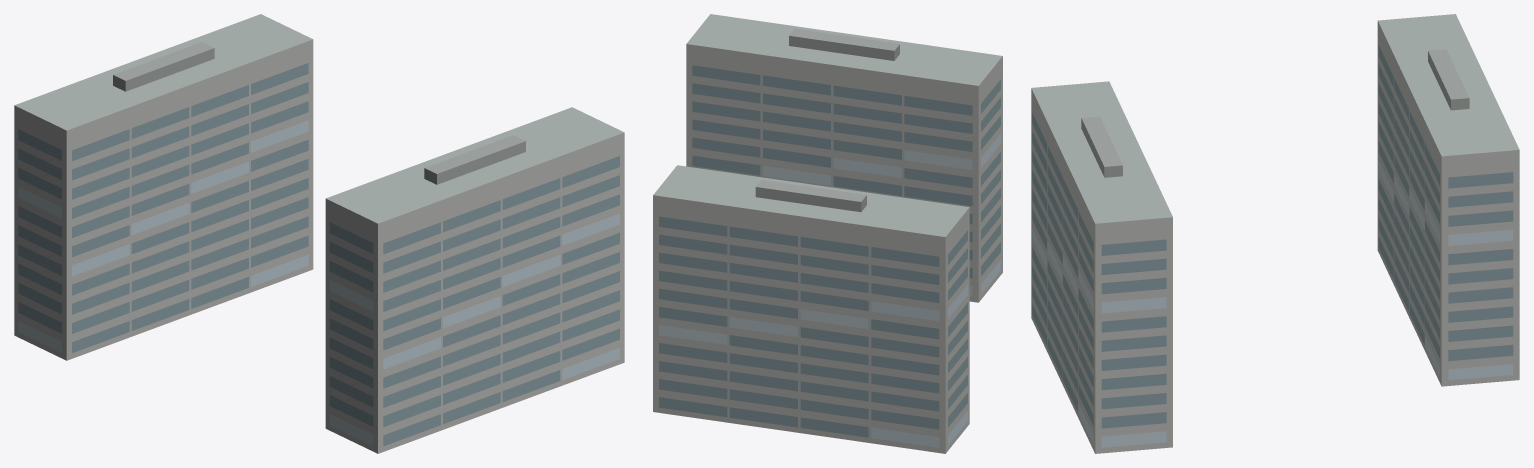
The model's file is apt-a13287801.glb.
3 views of the same model, side by side, from view 1: azimuth 30°, elevation 25°; view 2: azimuth 150°, elevation 25°; view 3: azimuth 270°, elevation 25° (orthographic). The views are drawn at different scales.
Visible parts, largest first — view 1: apt-a13287801; view 2: apt-a13287801; view 3: apt-a13287801.
Boxes of the visible parts, x1,y1,x2,y2 form: apt-a13287801: (14, 14, 624, 453); apt-a13287801: (653, 14, 1002, 453); apt-a13287801: (1031, 14, 1519, 453).
Bounding box in the file's own units: 61.6 × 33 × 60.6.
